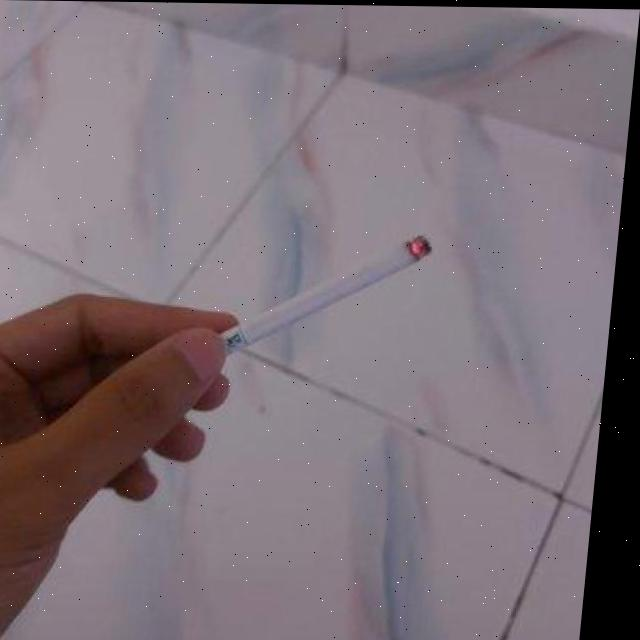cigarette: (229, 231, 440, 353)
